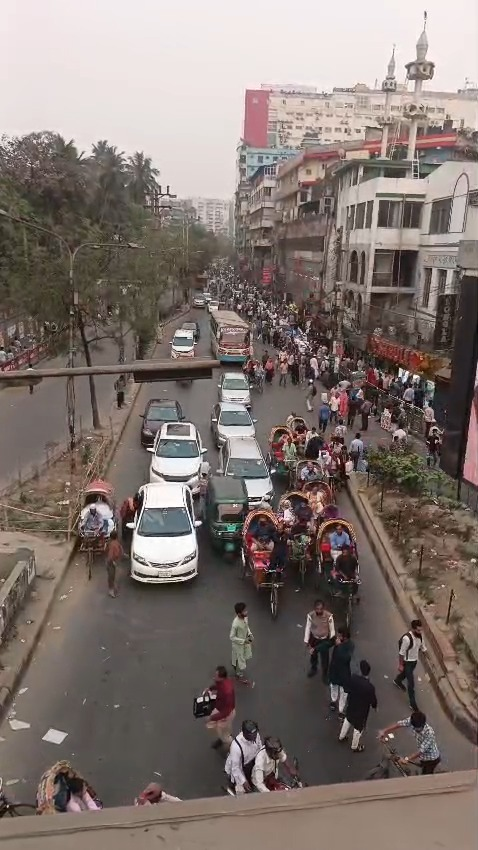Bikes: (210, 721, 321, 836), (362, 702, 457, 795)
Bus: (212, 299, 254, 378)
auto-ricksaw: (40, 743, 215, 842), (259, 394, 357, 568), (284, 494, 375, 593), (70, 473, 128, 577)
cng: (209, 462, 259, 564)
private car: (130, 464, 197, 590), (215, 364, 275, 491), (142, 396, 203, 486), (167, 314, 202, 367), (191, 287, 220, 313)
